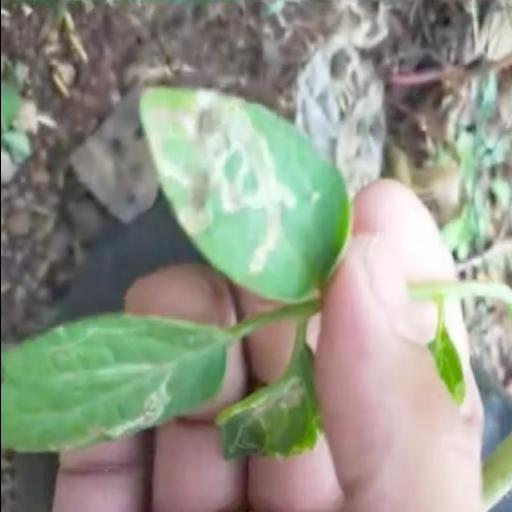disease_tomato: (135, 84, 352, 309), (0, 306, 228, 458)
